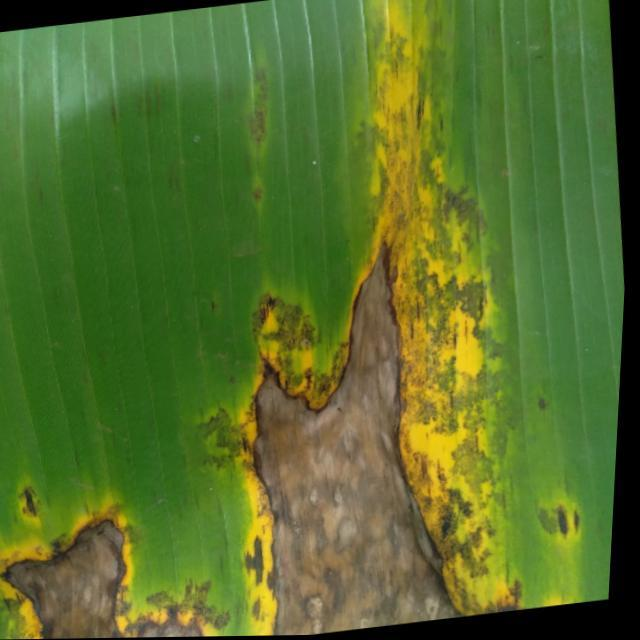Early_rust: (226, 3, 590, 638), (0, 387, 236, 640)
